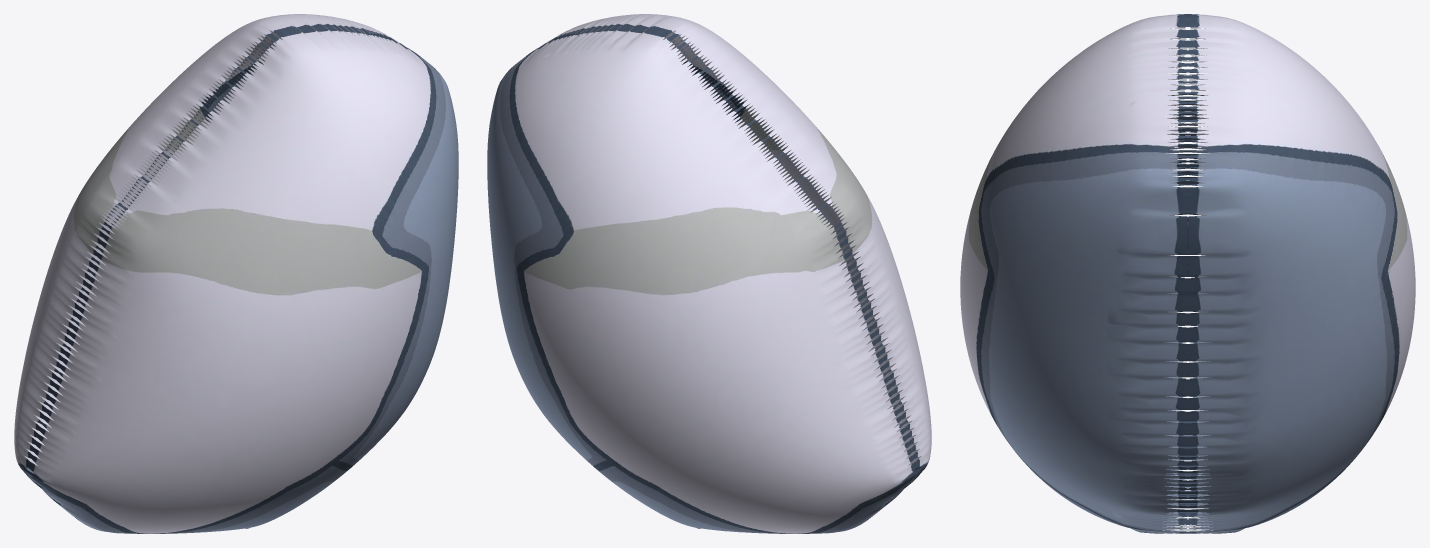
File: faceted_boulder.glb
3 renders of one model, left to right at view 1: azimuth 30°, elevation 25°; view 2: azimuth 150°, elevation 25°; view 3: azimuth 270°, elevation 25°, orthographic. The views are drawn at different scales.
Visible parts, largest first — view 1: faceted_boulder; view 2: faceted_boulder; view 3: faceted_boulder.
Boxes of the visible parts, bbox=[...] form: faceted_boulder: bbox=[14, 14, 458, 533]; faceted_boulder: bbox=[487, 14, 931, 533]; faceted_boulder: bbox=[960, 14, 1415, 533].
Size of the model in its own units: 0.9877 by 1.08 by 0.8182.
Materials: 1 (1 with a texture image).
